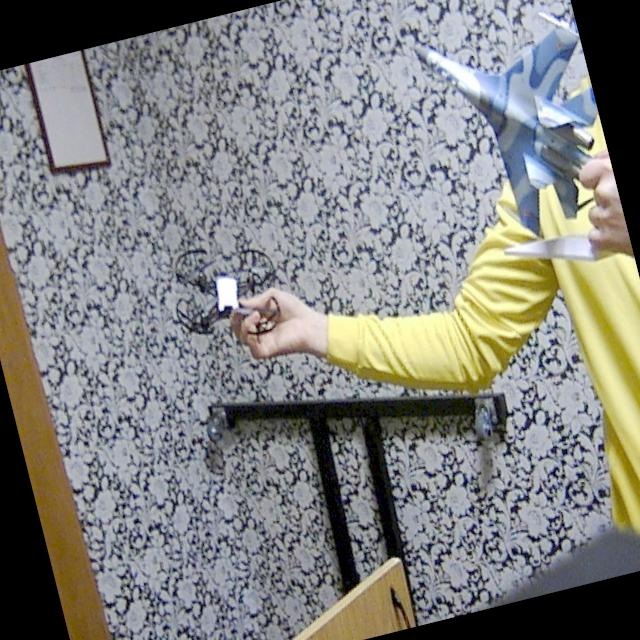drone: (146, 210, 292, 362)
